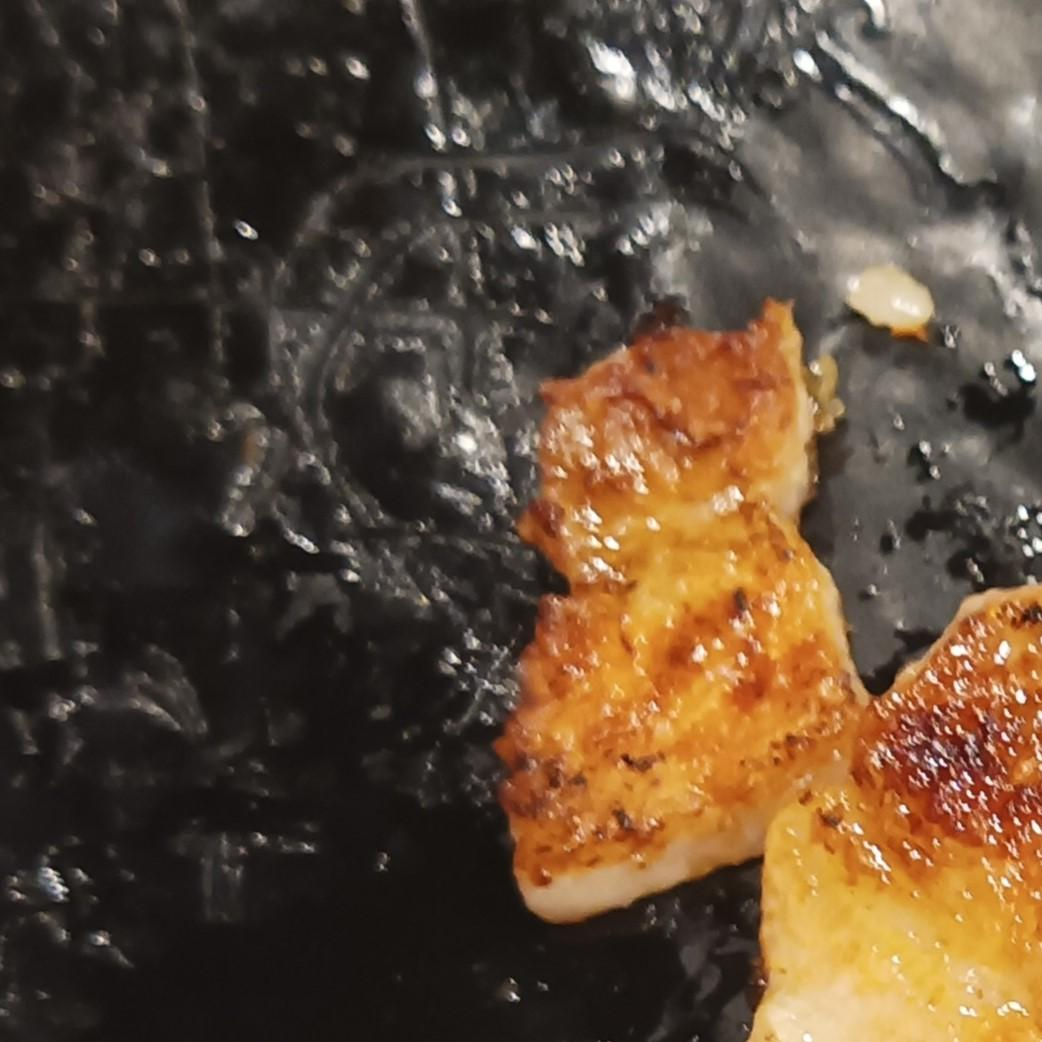Well-Cooked: (492, 312, 869, 926), (748, 584, 1041, 1041)
